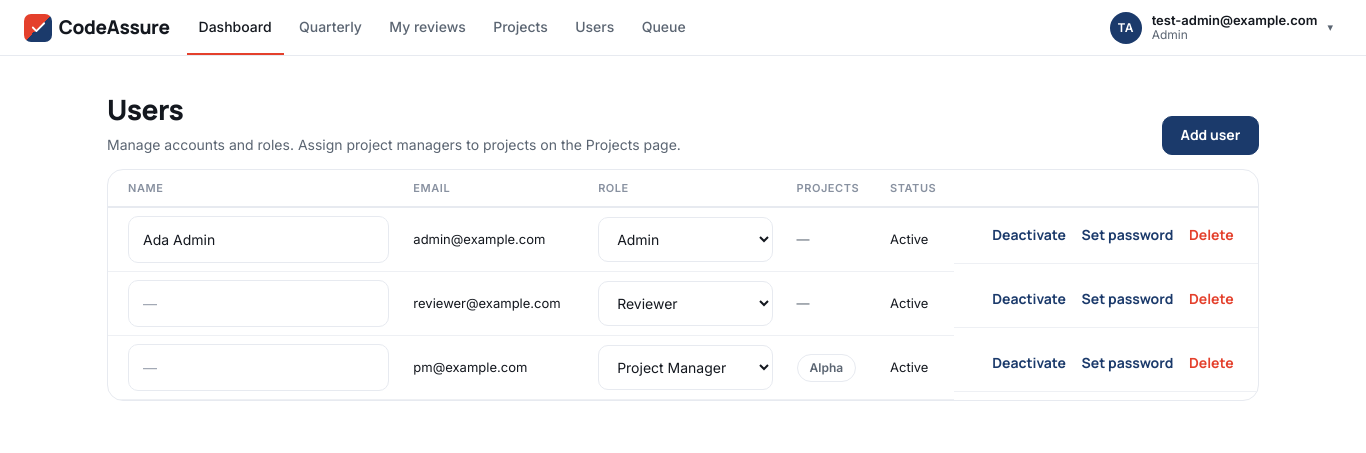
Test: shows an error message instead of failing silently when delete is rejected
Expected: the text "reviewer@example.com" is shown, [401,272,586,336]
Click the button with aria-label "delete reviewer@example.com".
click(1211, 299)  # box [1184,280,1238,319]
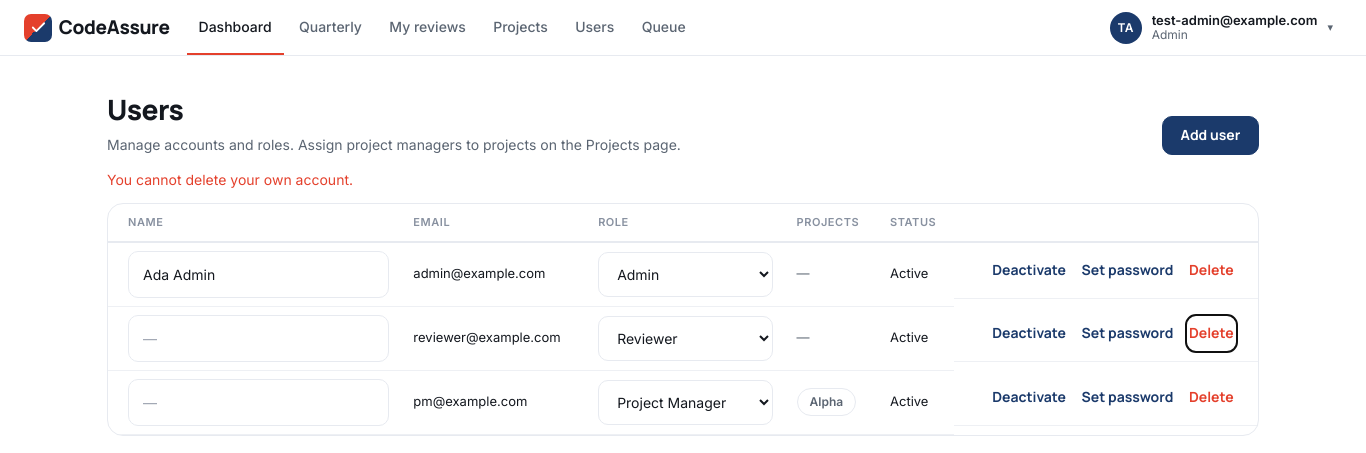
Expected: the text "You cannot delete your own account." is shown, [107,171,353,188]
